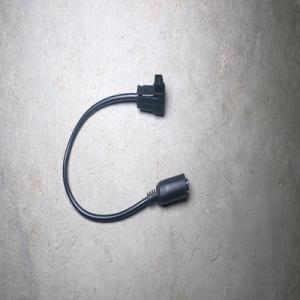Wire: (62, 74, 189, 223)
